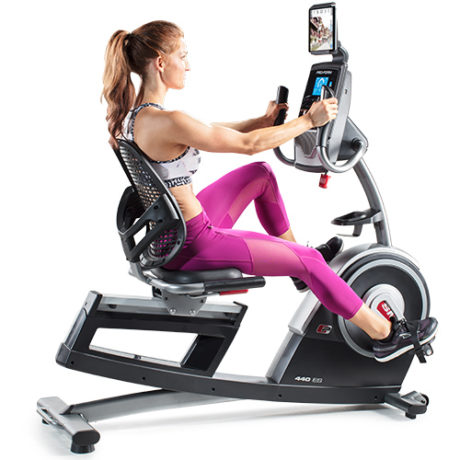gym_bike: (44, 47, 438, 455)
